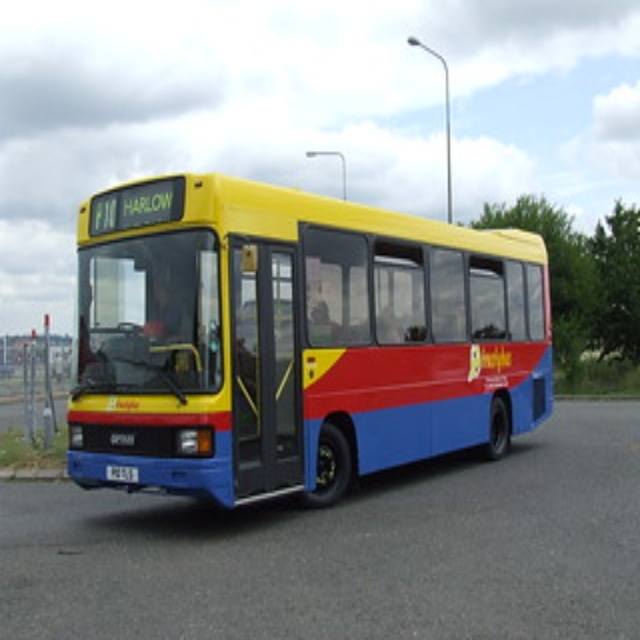Bus: (68, 171, 554, 509)
